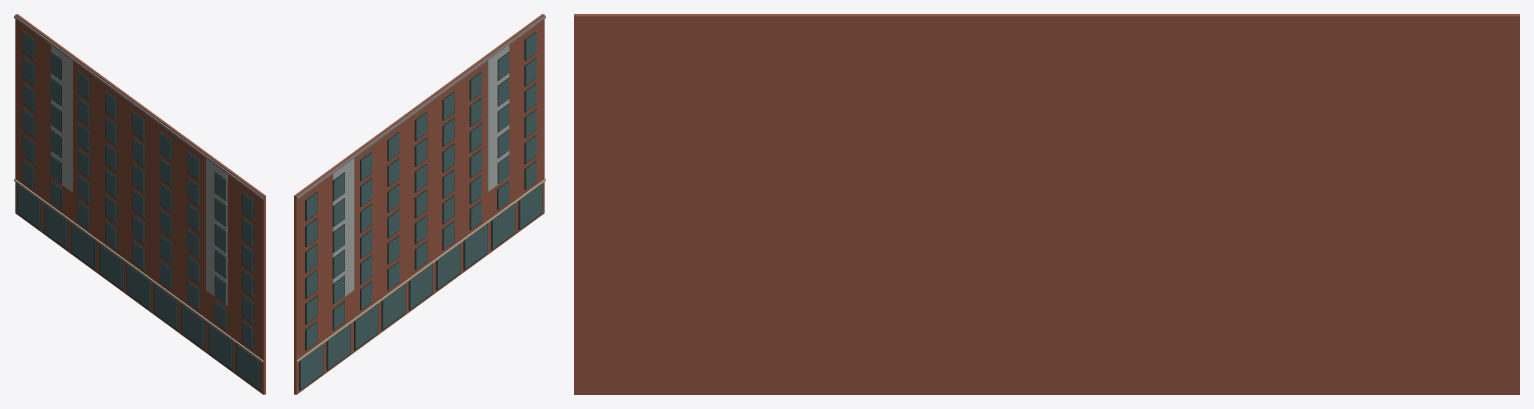
The model's file is unthank-west-detail-2026-11-04.glb.
3 views of the same model, side by side, from view 1: azimuth 30°, elevation 25°; view 2: azimuth 150°, elevation 25°; view 3: azimuth 270°, elevation 25° (orthographic). The views are drawn at different scales.
Visible parts, largest first — view 1: exterior-detail-building; view 2: exterior-detail-building; view 3: exterior-detail-building.
Boxes of the visible parts, box(x1,y1,x2,y2) form: exterior-detail-building: box(14, 14, 265, 394); exterior-detail-building: box(294, 14, 545, 394); exterior-detail-building: box(574, 14, 1519, 394).
Size of the model in its own units: 0.445 by 22 by 49.8.
